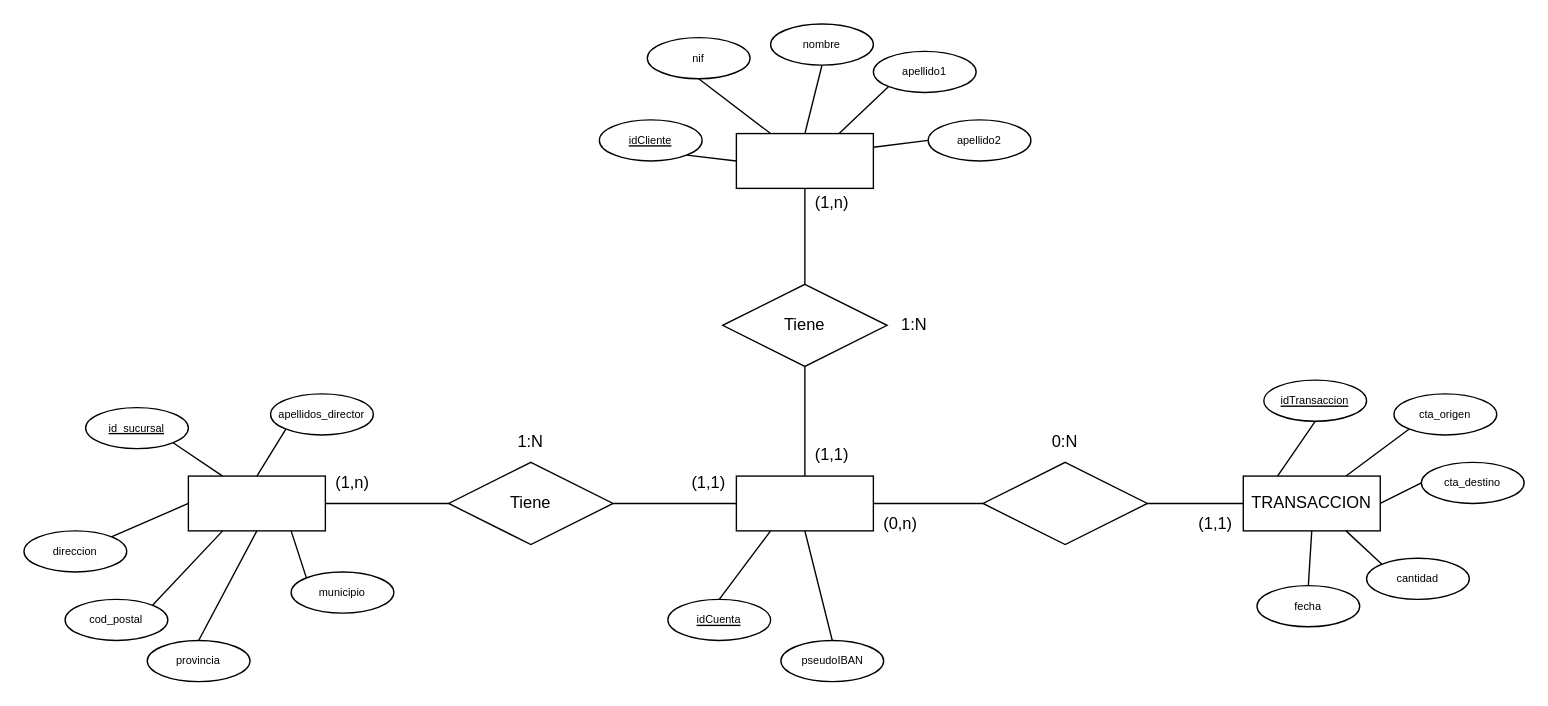
Some shapes in this 1548 by 706 pixel diagram are drawn without their labels. Each missing label, with the centre of its shape:
"CLIENTE" belongs at point (804, 160).
"CUENTA" belongs at point (804, 503).
"Realiza" belongs at point (1064, 503).
"SUCURSAL" belongs at point (256, 503).
